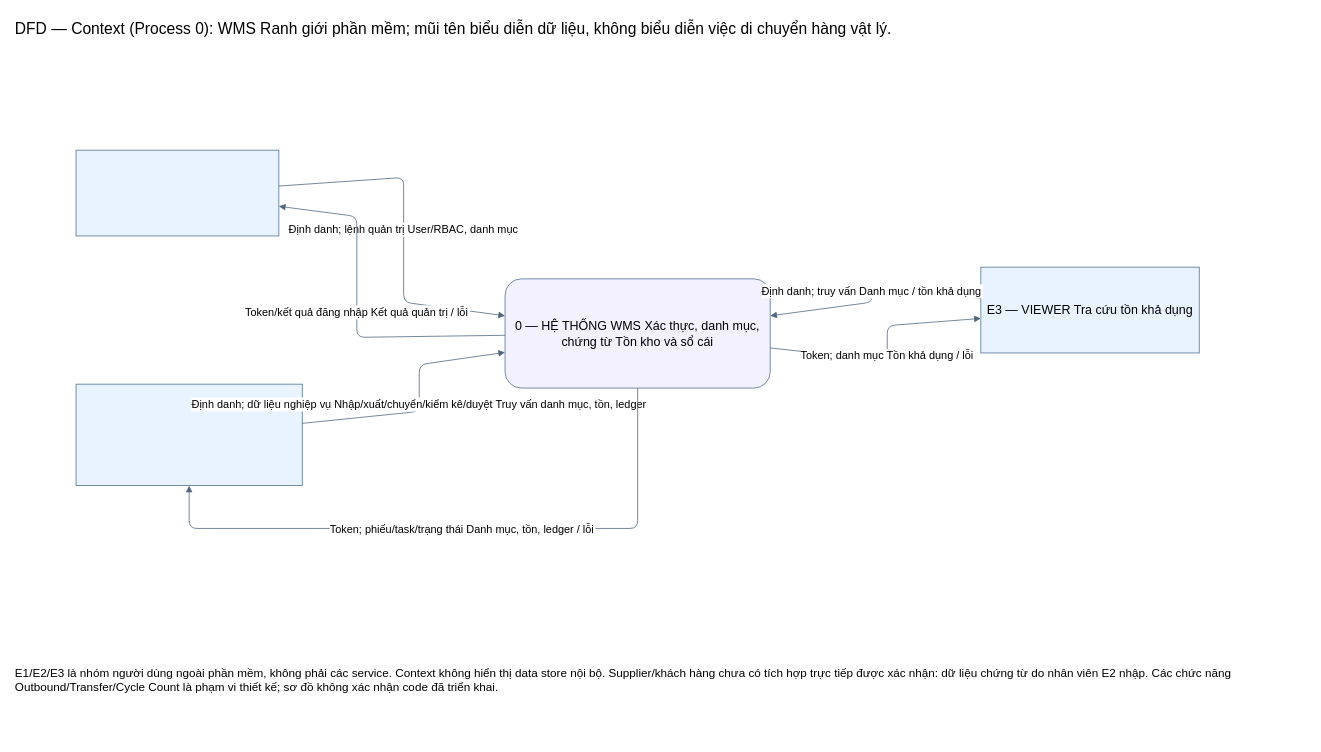
The diagram is 1321 pixels wide and 752 high, and some of its shapes have lost their labels. Each missing label, with the centre of its shape:
"E1 — ADMIN Quản trị hệ thống" belongs at pixel 177 192.
"E2 — Nhân viên vận hành WH_MANAGER / SUPERVISOR RECEIVER / PICKER / INSPECTOR" belongs at pixel 188 434.
